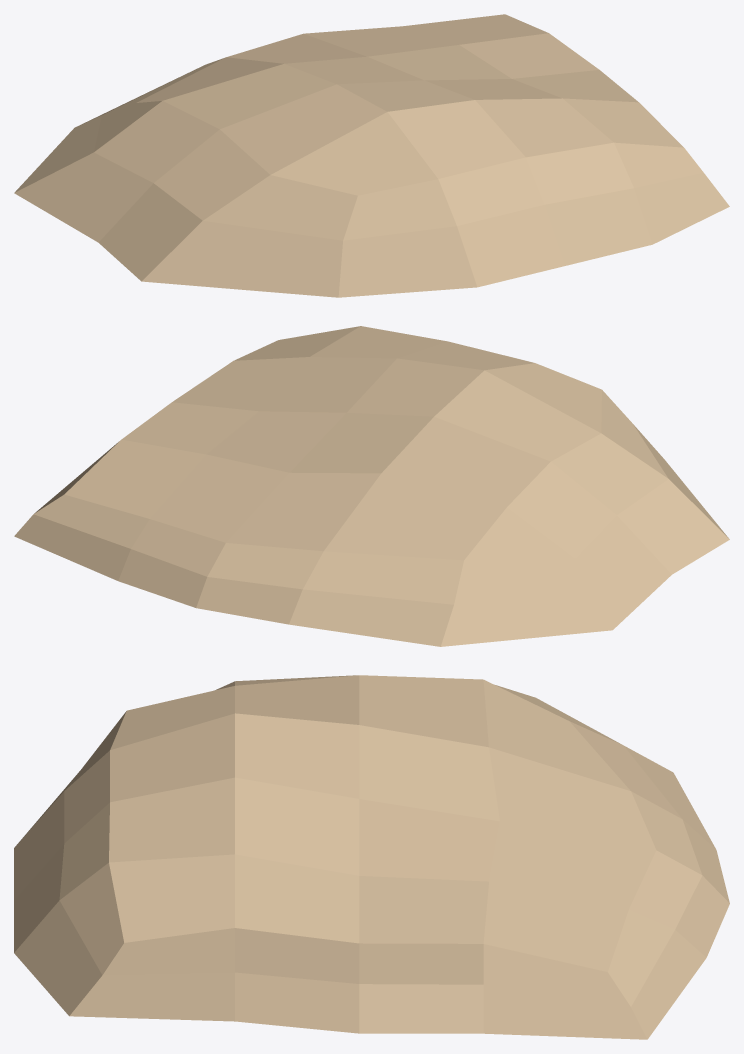
Rendered from sand-floor.glb.
The picture shows the model from 3 angles, top to bottom: view 1: azimuth 30°, elevation 25°; view 2: azimuth 150°, elevation 25°; view 3: azimuth 270°, elevation 25°; orthographic projection. The views are drawn at different scales.
Visible parts, largest first — view 1: Cube; view 2: Cube; view 3: Cube.
Boxes of the visible parts, box(x1,y1,x2,y2) form: Cube: box(14, 14, 729, 297); Cube: box(14, 326, 729, 646); Cube: box(14, 675, 729, 1039).
Bounding box in the file's own units: 9.63 × 2.07 × 8.77.
